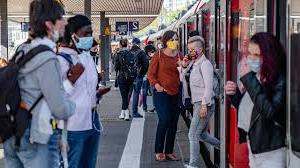mask_weared_incorrect: (50, 16, 70, 39)
with_mask: (246, 50, 261, 71), (76, 30, 95, 45), (187, 45, 200, 57), (166, 38, 180, 48), (90, 46, 100, 56), (156, 40, 163, 49), (149, 50, 155, 58)
